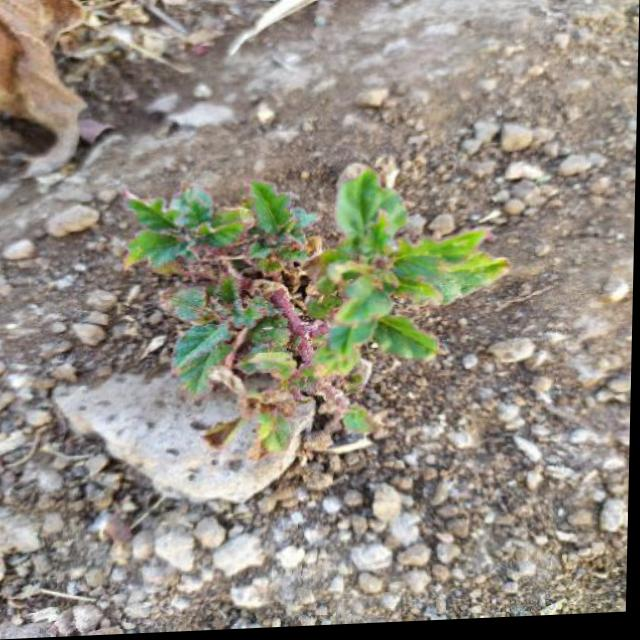weed: (118, 169, 514, 464)
